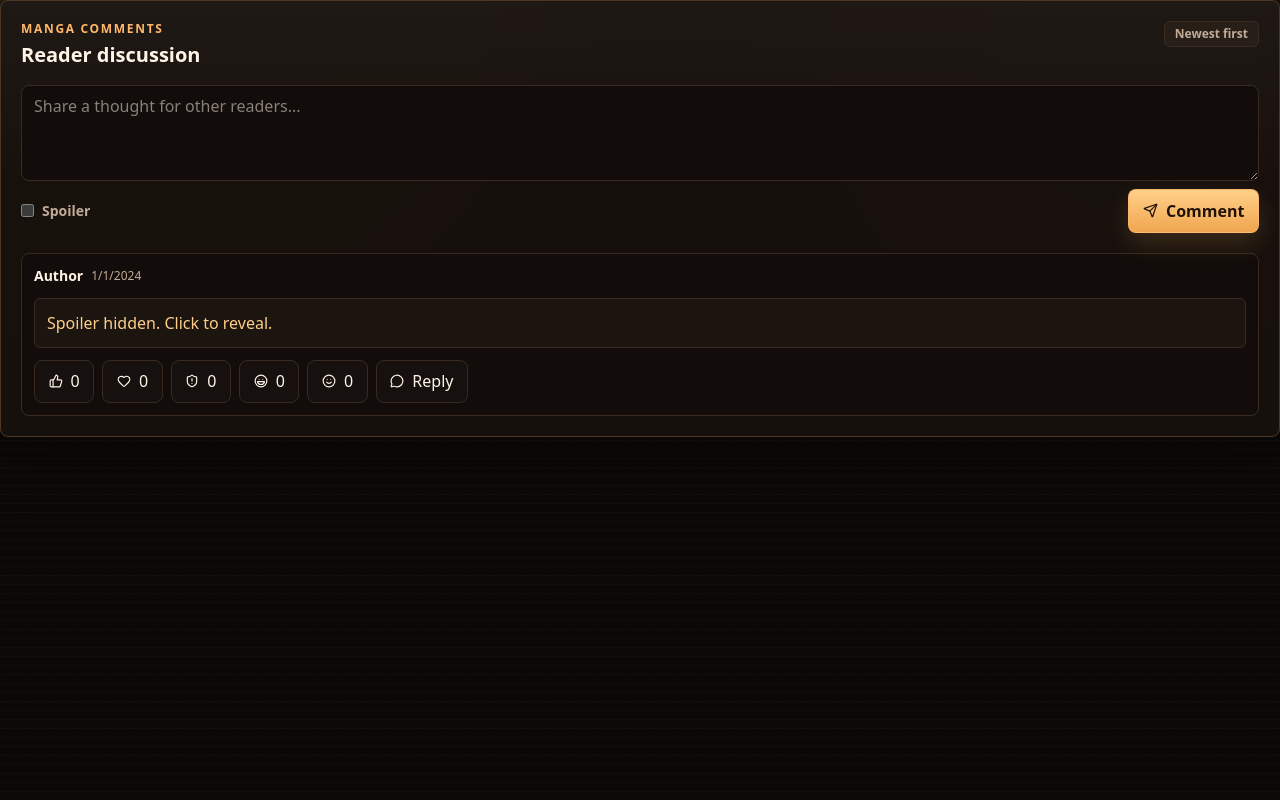
Test: CommentSection › hides spoiler content until the reader reveals it
Check: the text "The villain returns." is not shown
Step 1. Click the button "Spoiler hidden. Click to reveal." → (160, 323), box x1=34 y1=298 x2=1246 y2=348
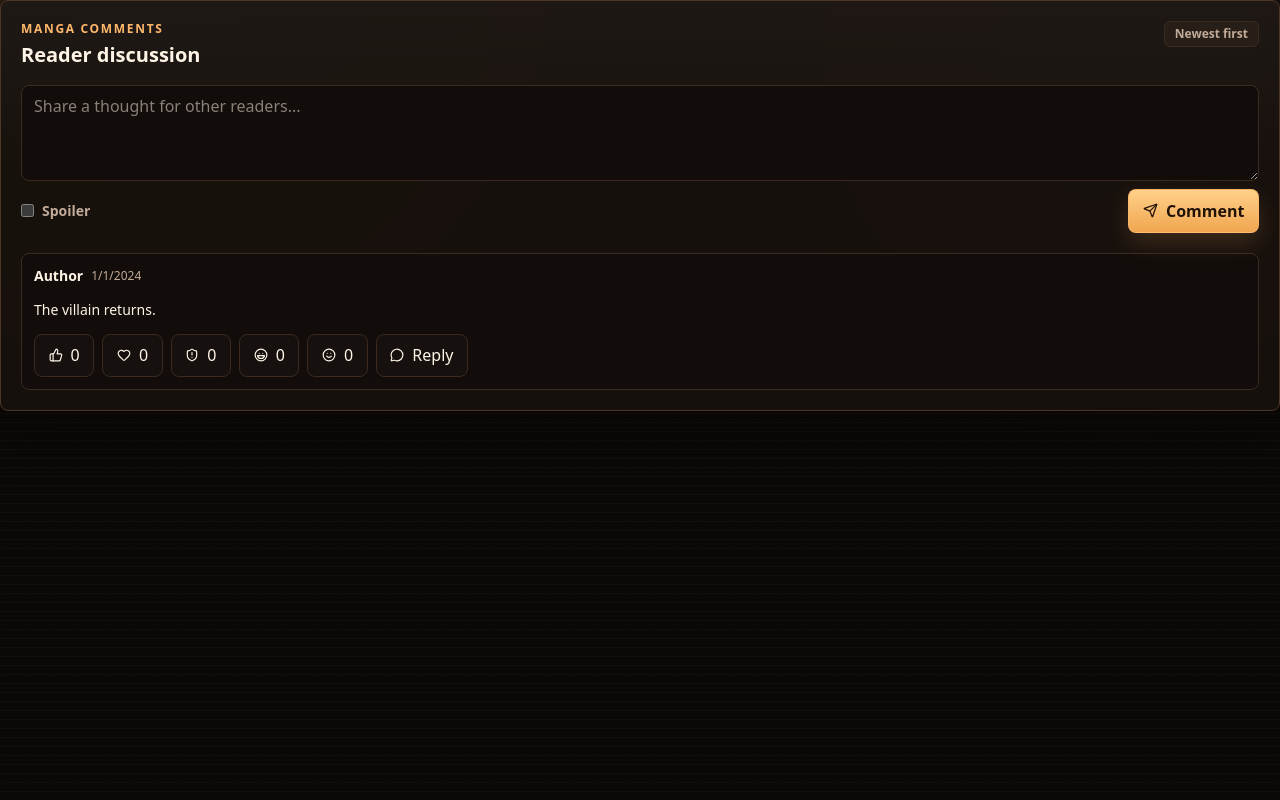
Check: the text "The villain returns." is shown, box x1=34 y1=300 x2=156 y2=319
